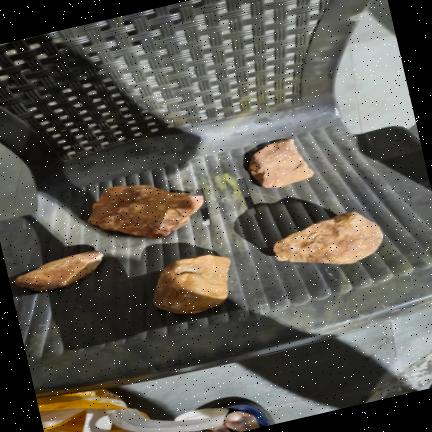Rocks: (88, 186, 202, 239), (273, 213, 382, 264), (152, 255, 229, 314), (14, 252, 102, 292), (248, 140, 313, 188)
